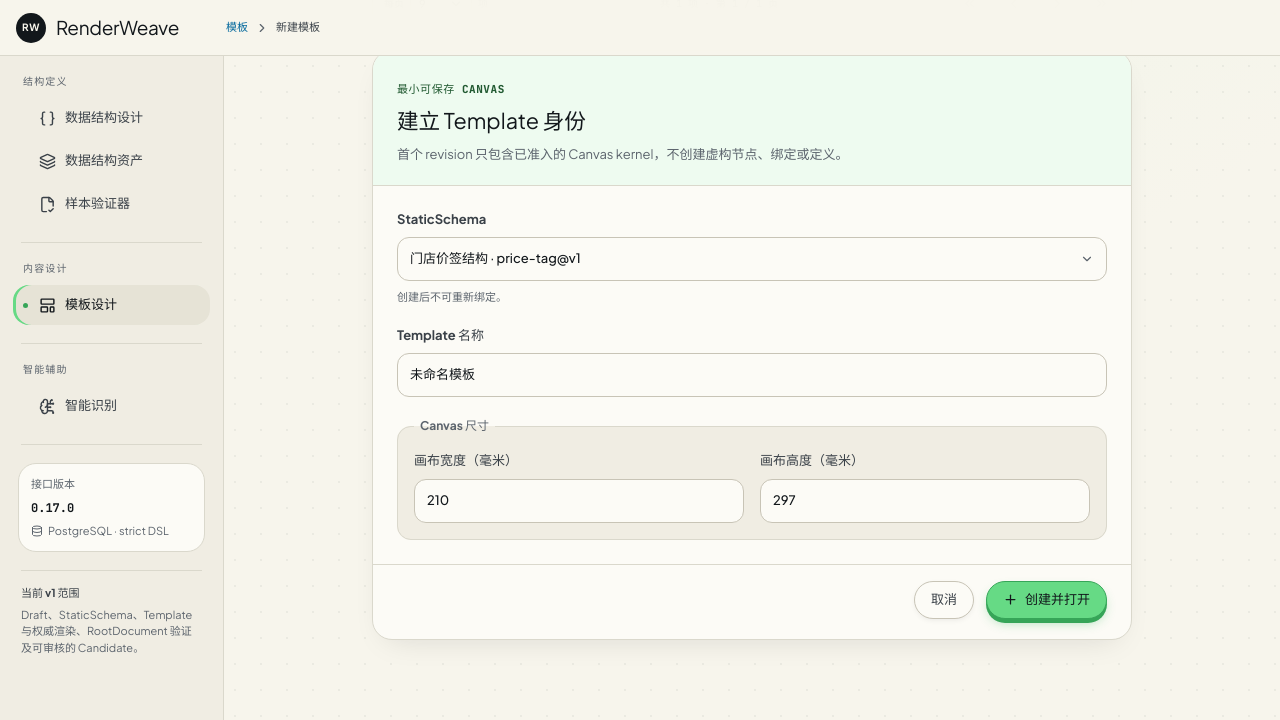
Test: Template final-product page substrate › shows only an opaque receipt and never opens an unreadable editor baseline
The width and height of the screenshot is (1280, 720).
(page scrolled)
Click the button "创建并打开".
click(1046, 600)  # box [986,581,1107,619]
(page scrolled)
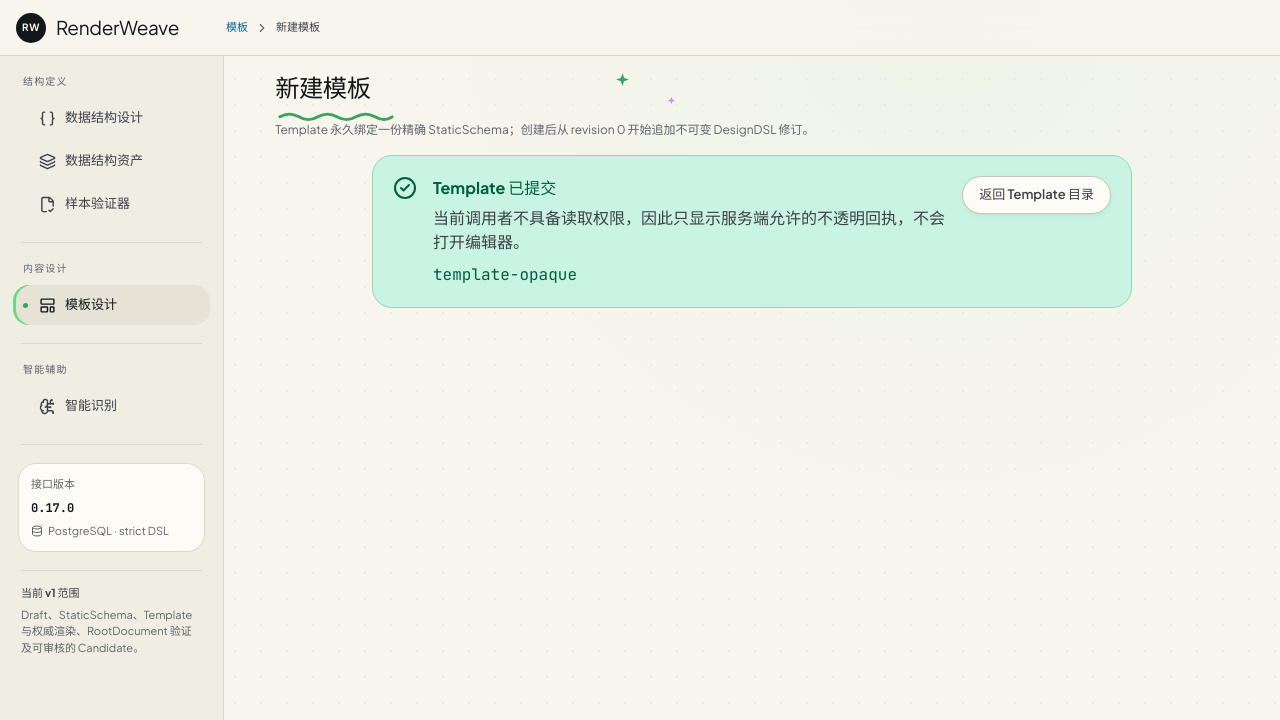
Result: the text "Template 已提交" is shown at [433,177,556,198]
Result: the text "Template 已提交" shows "template-opaque" at [433,264,577,285]
Result: the text "Template 已提交" shows "不具备读取权限" at [433,207,945,252]
